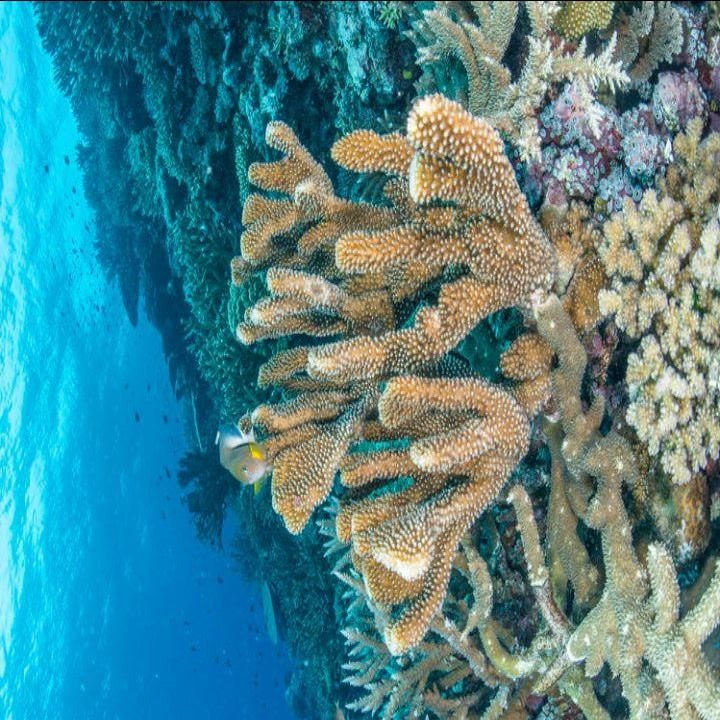Bleached disease: (159, 71, 596, 672)
